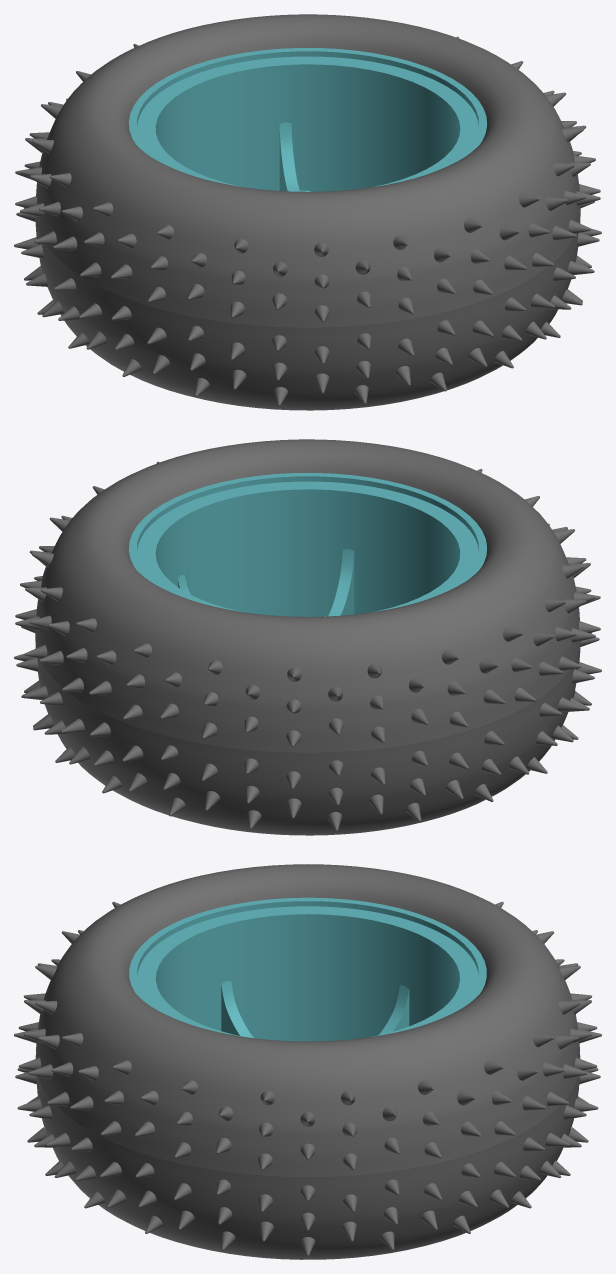
File: Off Road Tyre v3 v1.glb.glb
3 views of the same model, one above another, from view 1: azimuth 30°, elevation 25°; view 2: azimuth 150°, elevation 25°; view 3: azimuth 270°, elevation 25° (orthographic).
Bounding box in the file's own units: 0.098 × 0.0389 × 0.098.
